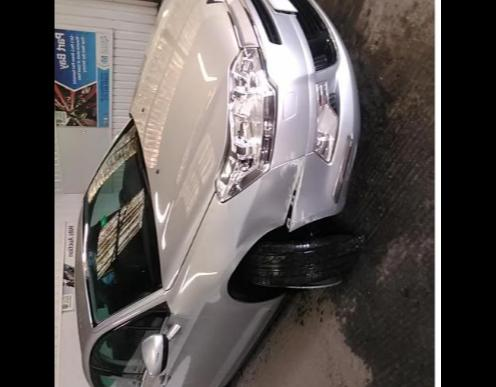Broken part: (238, 220, 366, 288), (280, 154, 308, 232)
Dent: (236, 154, 304, 251)
Paint chip: (284, 154, 304, 201)
Scratch: (290, 150, 296, 160), (286, 156, 290, 162)
